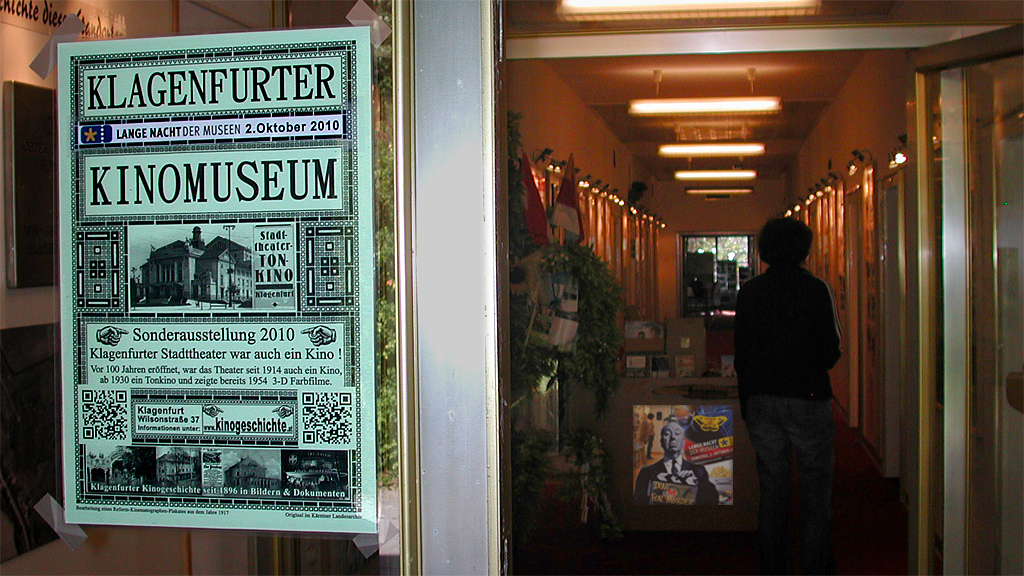QR-CODE: (302, 392, 351, 443), (82, 390, 127, 439)
